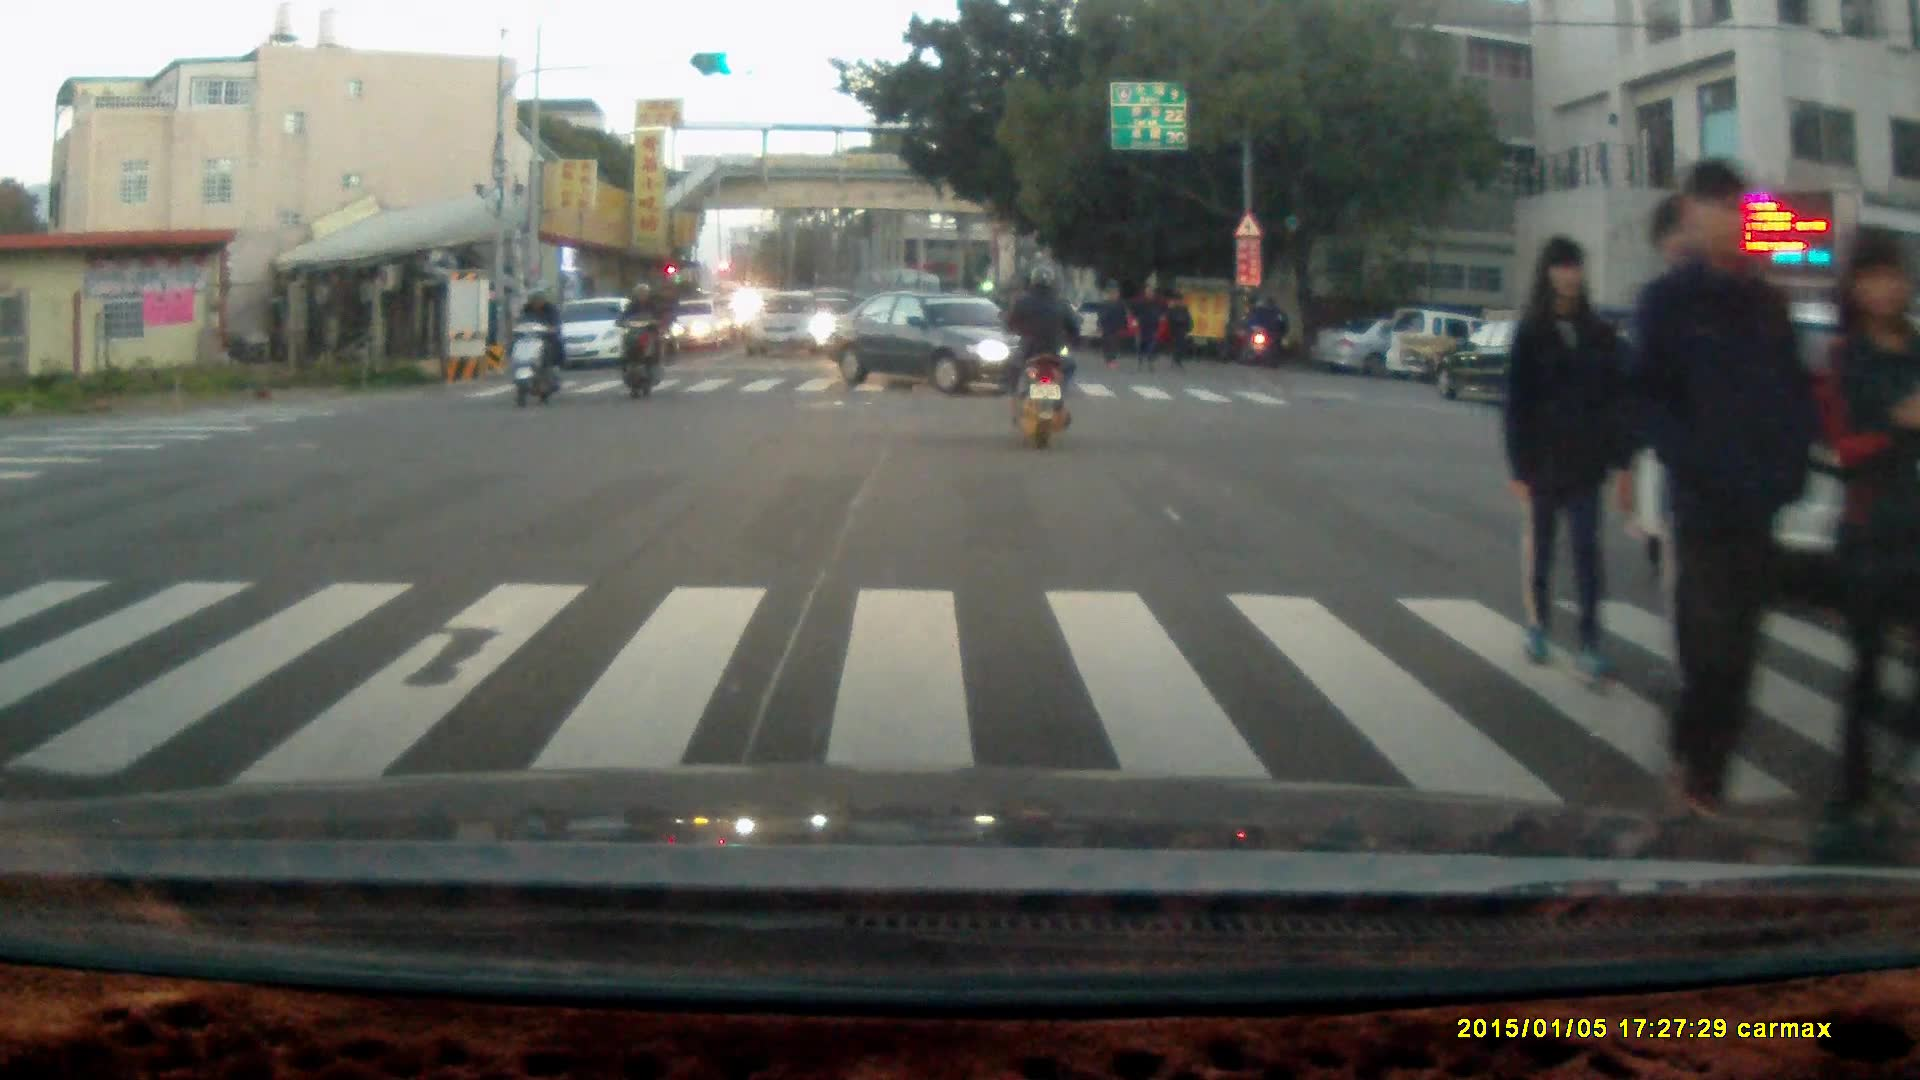pedestrian: (1618, 158, 1816, 848), (1498, 230, 1636, 695), (1812, 235, 1920, 813), (1130, 281, 1163, 377), (1160, 289, 1192, 377), (1095, 285, 1125, 367), (1256, 290, 1287, 367)
rider: (1002, 259, 1083, 449), (505, 279, 565, 407), (609, 277, 669, 400), (1235, 299, 1273, 364)
vehicle: (818, 283, 1075, 396), (1430, 313, 1571, 409), (1316, 310, 1489, 384), (543, 295, 653, 370), (747, 292, 830, 360)
